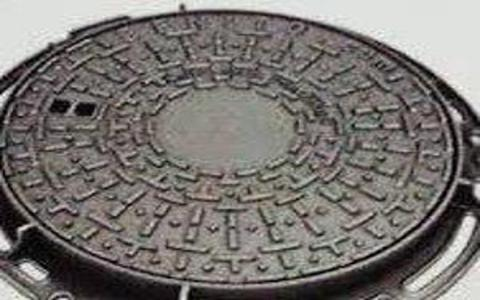proper manhole: (7, 2, 466, 283)
